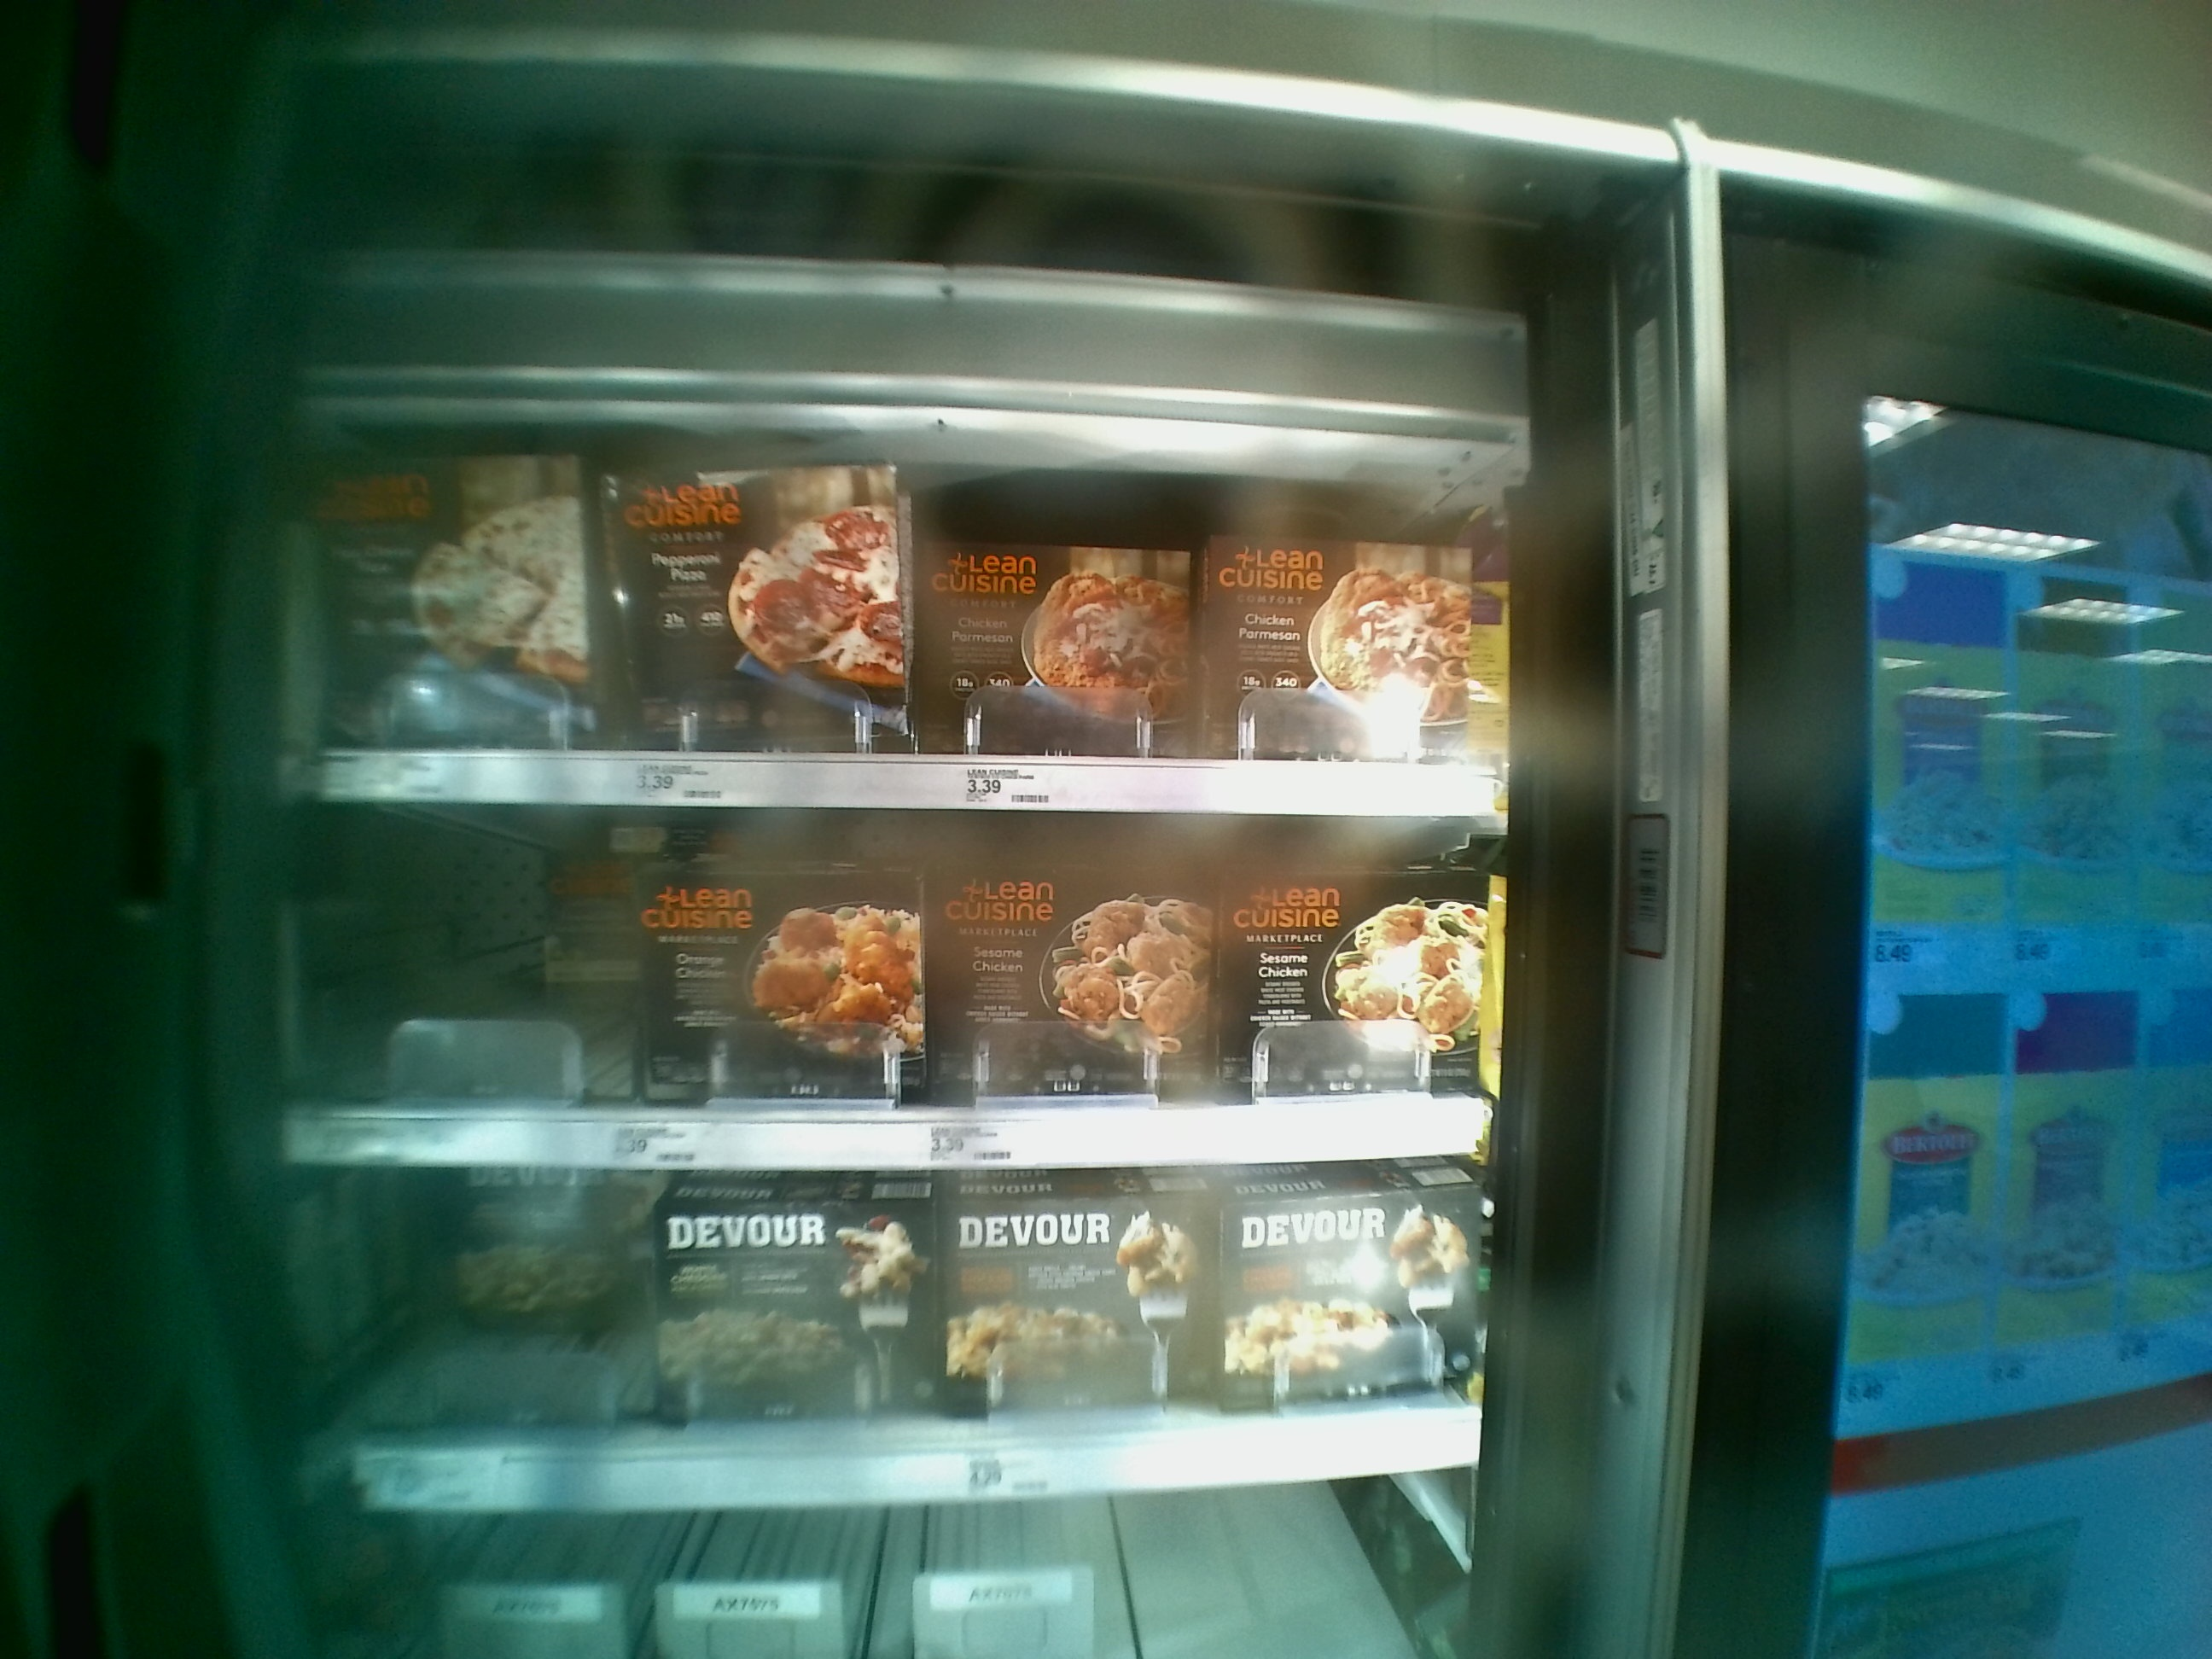shelf: (336, 403, 1491, 817), (291, 803, 1501, 1161), (291, 1168, 1475, 1497)
